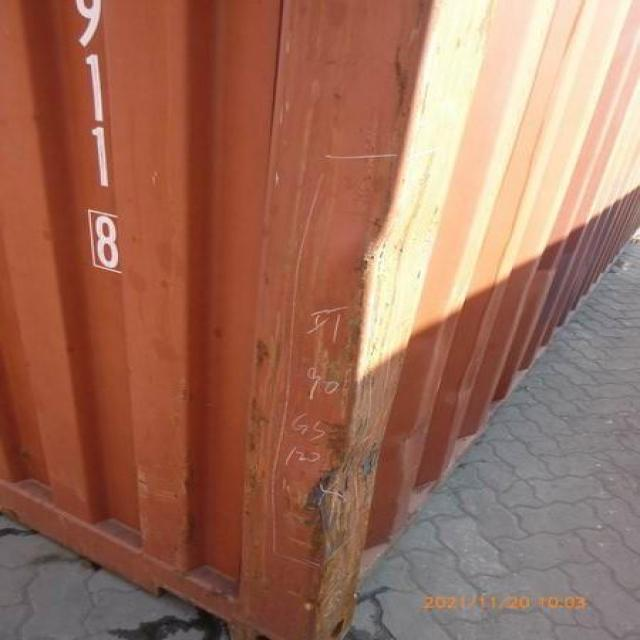dent: (347, 214, 404, 291), (324, 419, 368, 505)
